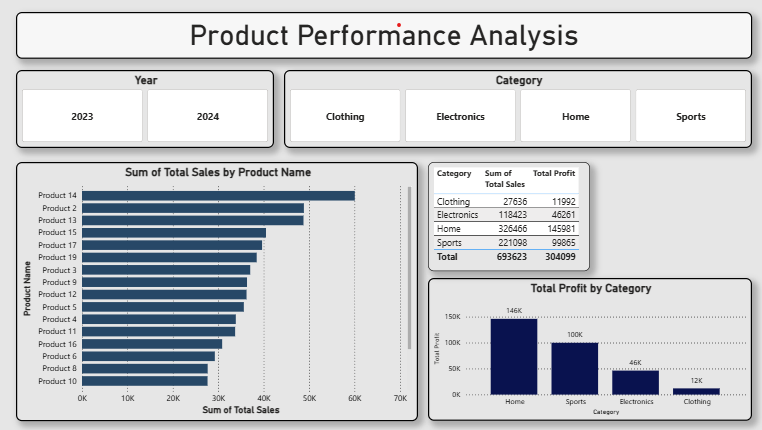

Layout of this report page (visuals, bound fields, positions):
{"tool":"powerbi","page":{"name":"Page 2","canvas":[1280,720],"ordinal":1},"visuals":[{"type":"barChart","fields":{"Category":["products_table.Product Name"],"Y":["Sum(sales_table.Total Sales)"]},"box":[28.3,270,670,431.7],"z":0},{"type":"tableEx","fields":{"Values":["products_table.Category","Sum(sales_table.Total Sales)","sales_table.Total Profit"]},"box":[715,270,270,181.7],"z":1},{"type":"columnChart","fields":{"Category":["products_table.Category"],"Y":["sales_table.Total Profit"]},"box":[715,463.3,540,238.3],"z":2},{"type":"advancedSlicerVisual","fields":{"Values":["products_table.Category"]},"box":[475,116.7,780,130],"z":3},{"type":"advancedSlicerVisual","fields":{"Values":["date_table.Year"]},"box":[28.3,116.7,430,130],"z":4},{"type":"textbox","box":[28.3,20,1226.7,78.3],"z":5}]}

Visuals, with their boxes in screenshot pixels (x1, y1, x2, y2), scaled from the page's 1280x720 canvas onto the 762x430 screenshot:
barChart - products_table.Product Name x Sum(sales_table.Total Sales): {"x1": 17, "y1": 161, "x2": 416, "y2": 419}
tableEx - products_table.Category x Sum(sales_table.Total Sales): {"x1": 426, "y1": 161, "x2": 586, "y2": 270}
columnChart - products_table.Category x sales_table.Total Profit: {"x1": 426, "y1": 277, "x2": 747, "y2": 419}
advancedSlicerVisual - products_table.Category: {"x1": 283, "y1": 70, "x2": 747, "y2": 147}
advancedSlicerVisual - date_table.Year: {"x1": 17, "y1": 70, "x2": 273, "y2": 147}
textbox: {"x1": 17, "y1": 12, "x2": 747, "y2": 59}
